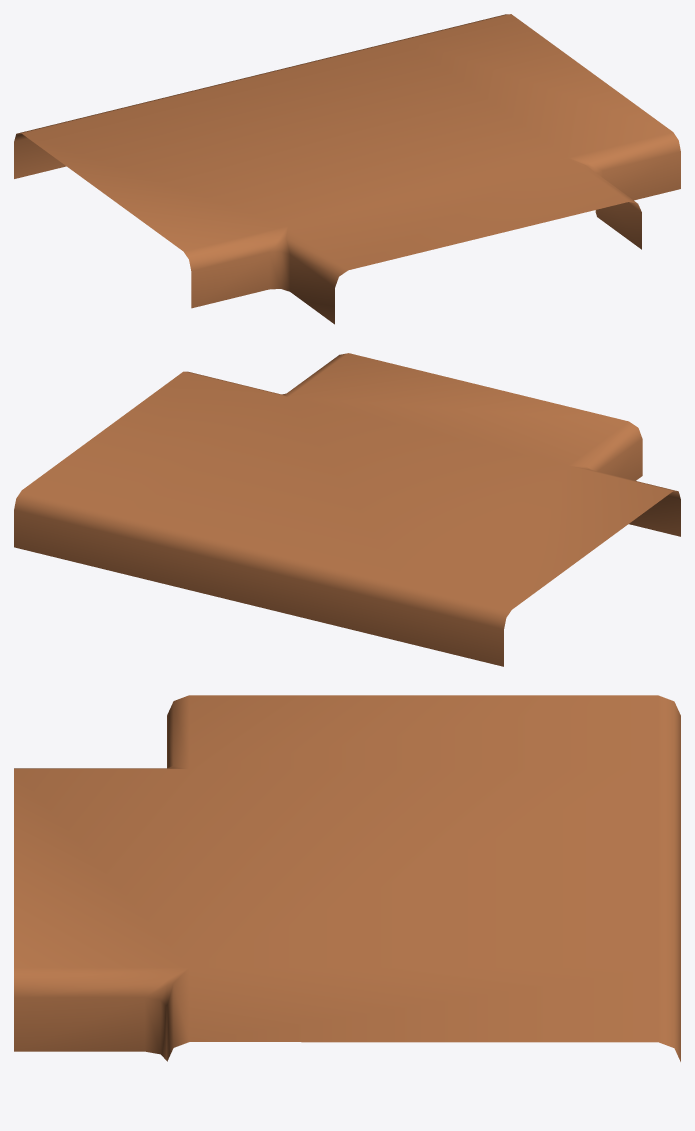
File: road_02_t_shape.fbx
The picture shows the model from 3 angles, top to bottom: view 1: azimuth 30°, elevation 25°; view 2: azimuth 150°, elevation 25°; view 3: azimuth 270°, elevation 25°; orthographic projection. The views are drawn at different scales.
Parts seen in each view (by area): view 1: road_02_t_shape; view 2: road_02_t_shape; view 3: road_02_t_shape.
Boxes of the visible parts, x1,y1,x2,y2 form: road_02_t_shape: (14,14,680,324); road_02_t_shape: (14,353,680,666); road_02_t_shape: (14,695,680,1061).
Bounding box in the file's own units: 20 × 2.01 × 16.24.
